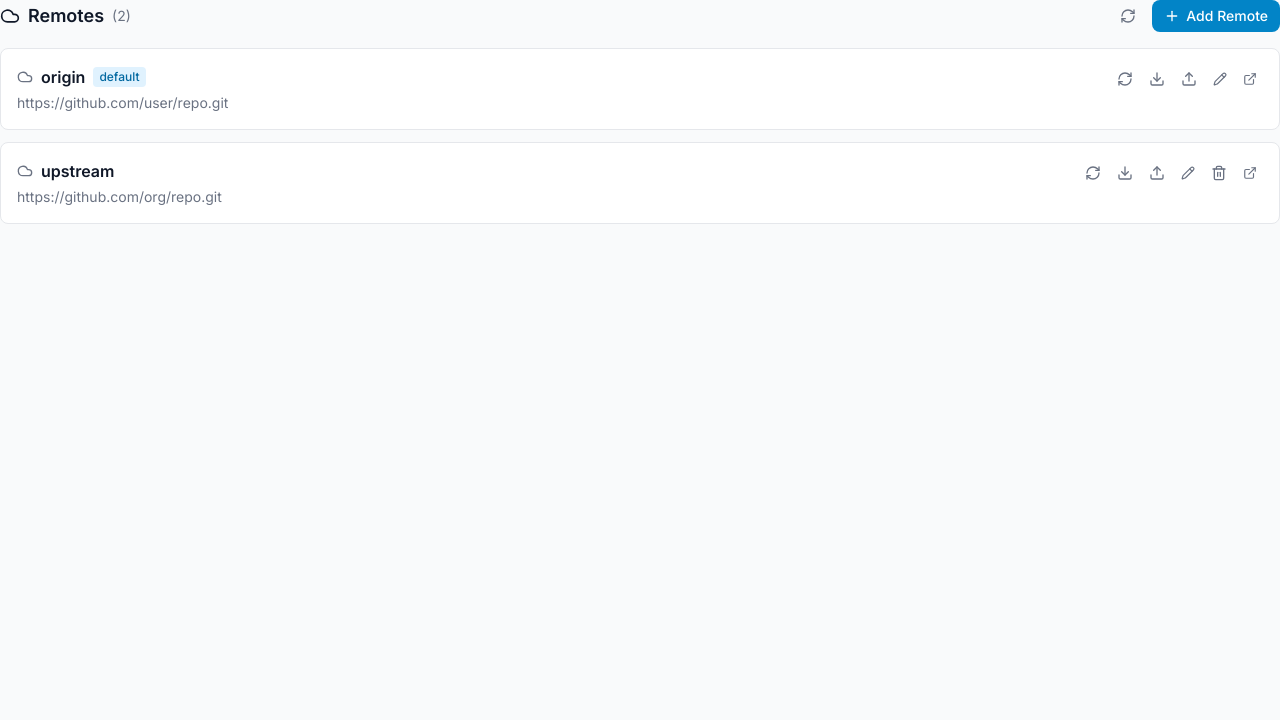
Test: RemoteList › cancels Add Remote modal when Cancel is clicked
The image size is (1280, 720).
Click the button "Add Remote".
click(1216, 16)  # box [1152,0,1279,32]
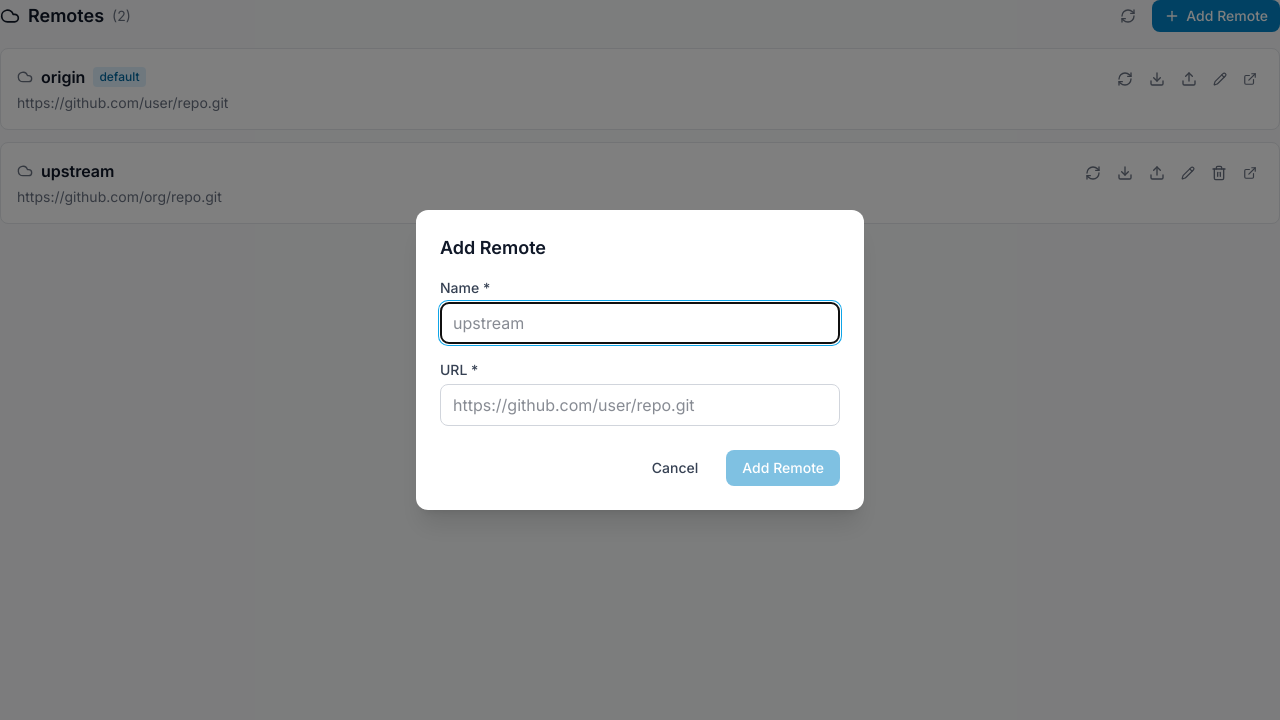
Check: the text "Name *" is shown, box [440,279,490,296]
Click the button "Cancel".
click(675, 468)  # box [636,450,714,486]
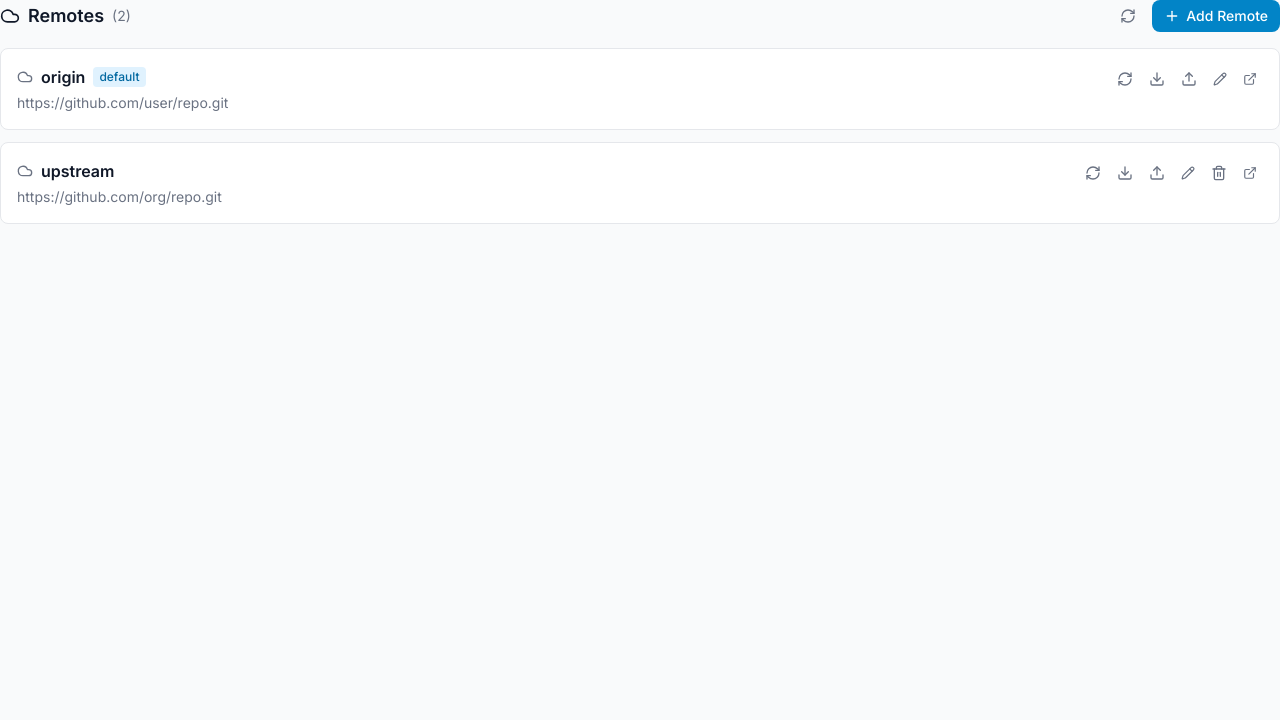
Check: the text "Name *" is gone
